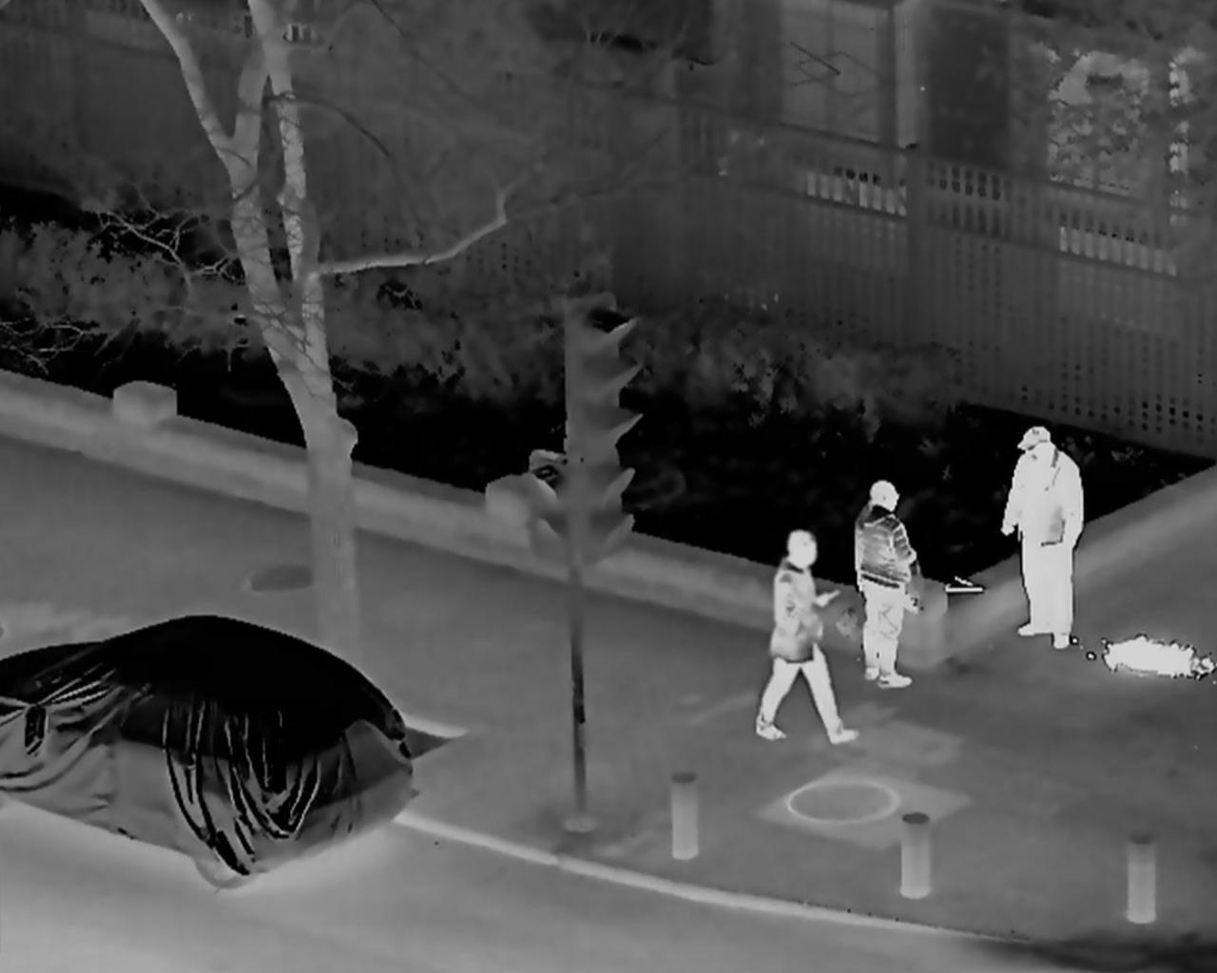person: (750, 526, 857, 749), (997, 428, 1085, 648), (848, 481, 925, 693)
